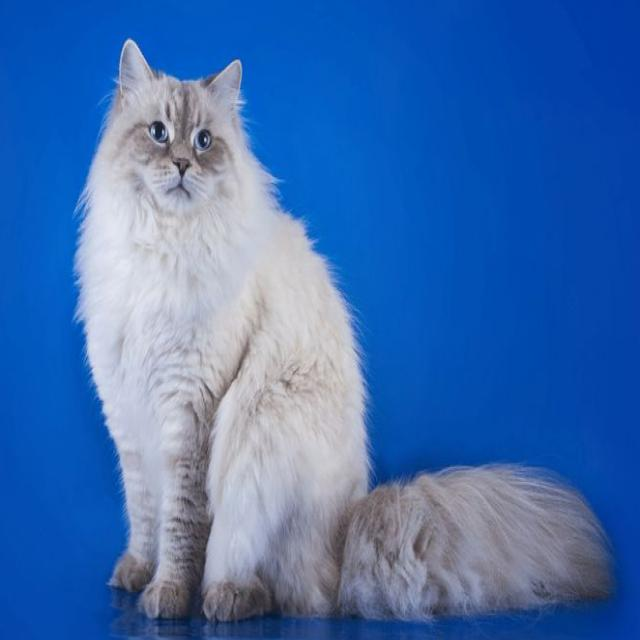Neva Masquerade: (70, 30, 623, 633)
